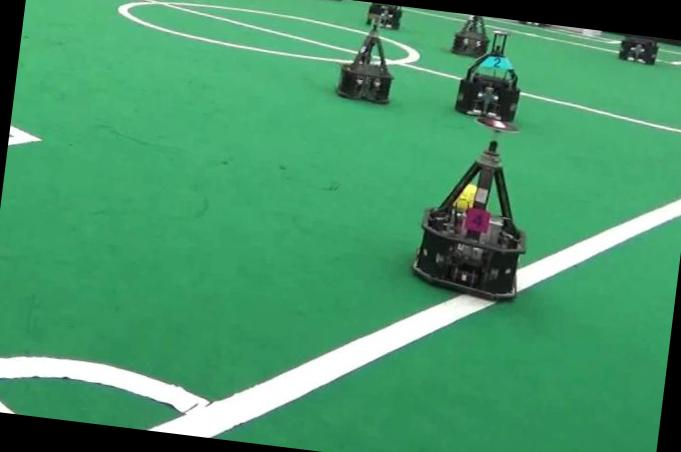robot: (412, 141, 524, 298), (454, 30, 519, 122), (337, 18, 392, 102), (451, 14, 488, 56), (619, 34, 656, 64), (366, 3, 400, 29)
